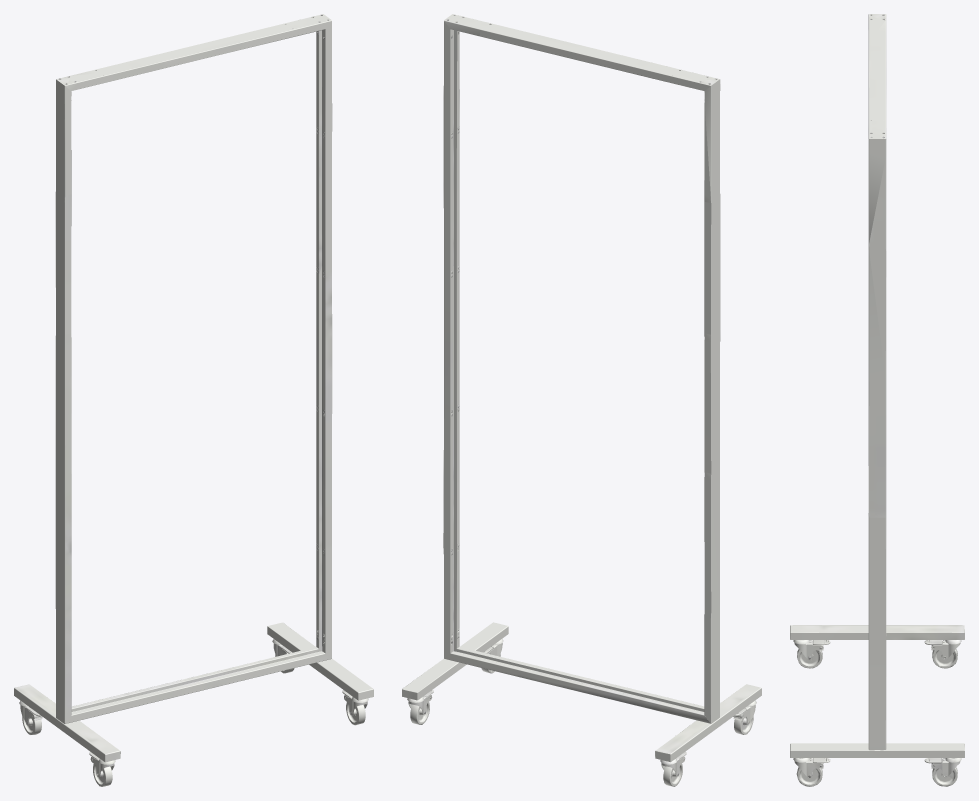
File: 01 - MITTZON - 活動式框架, 白色, 85x205x50 公分 IKEA 線上購物.glb
The picture shows the model from 3 angles, left to right: view 1: azimuth 30°, elevation 25°; view 2: azimuth 150°, elevation 25°; view 3: azimuth 270°, elevation 25°; orthographic projection. The views are drawn at different scales.
Parts seen in each view (by area): view 1: model; view 2: model; view 3: model.
Boxes of the visible parts, <box> form: model: <box>14,14,373,786</box>; model: <box>402,14,761,786</box>; model: <box>790,14,964,786</box>.
Bounding box in the file's own units: 0.8505 × 2.05 × 0.5002.
1 material, 1 textured.
